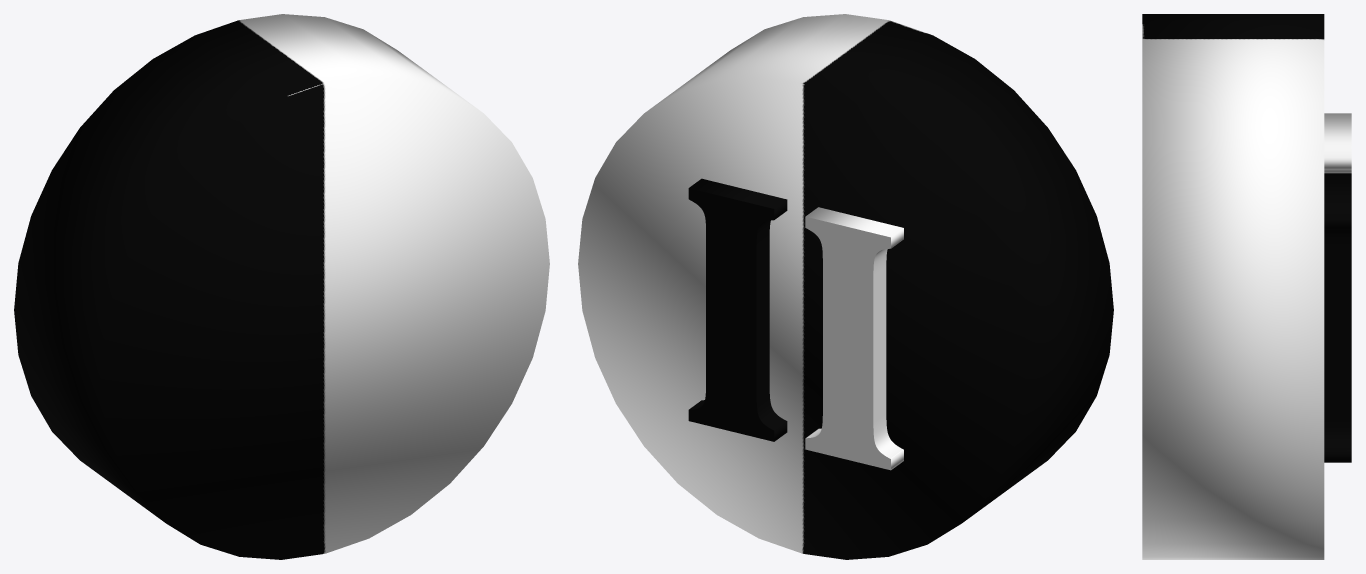
File: stage2.obj
3 views of the same model, side by side, from view 1: azimuth 30°, elevation 25°; view 2: azimuth 150°, elevation 25°; view 3: azimuth 270°, elevation 25° (orthographic). The views are drawn at different scales.
Parts seen in each view (by area): view 1: 円柱; view 2: 円柱; view 3: 円柱.
Boxes of the visible parts, box(x1,y1,x2,y2) form: 円柱: box(14, 14, 549, 559); 円柱: box(578, 14, 1113, 559); 円柱: box(1142, 14, 1351, 559).
Size of the model in its own units: 6 by 6 by 2.3.
1 material, 1 textured.
